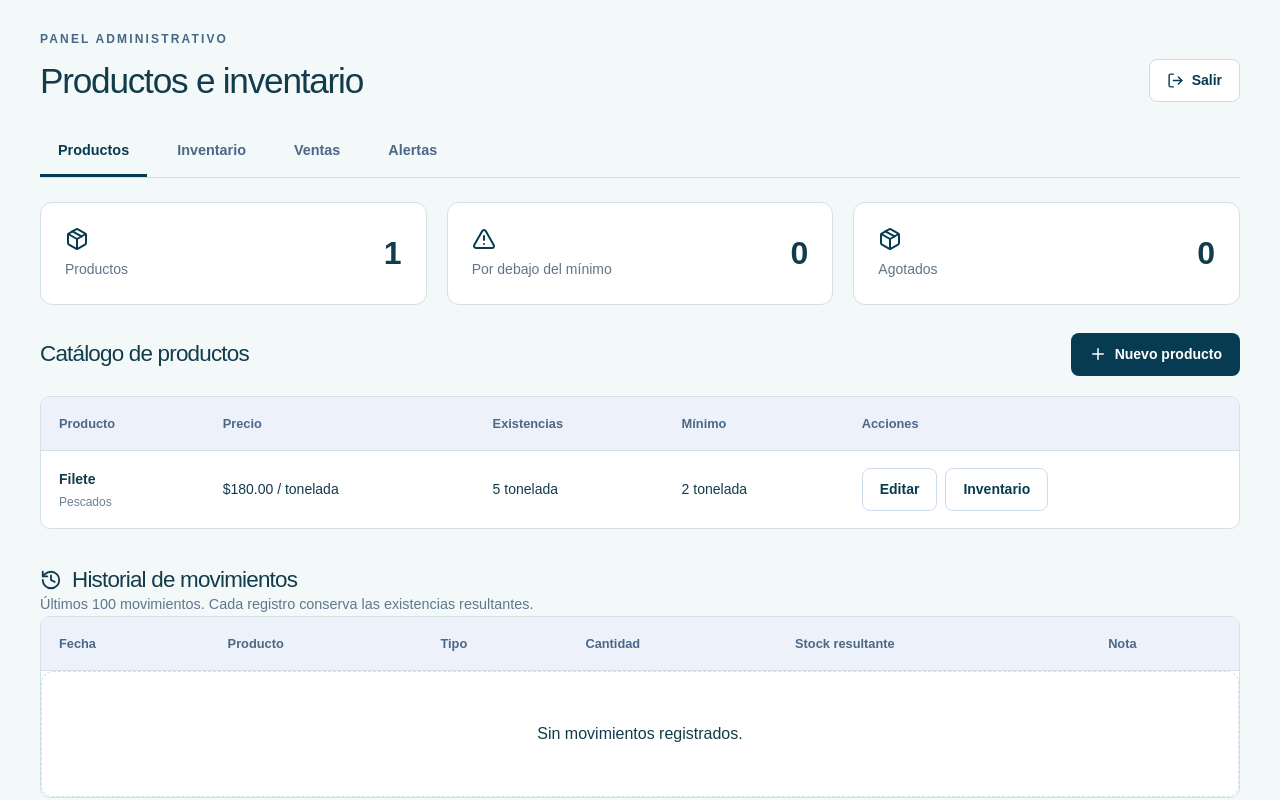
Scenario: Acceso e interacción del inventario › muestra errores dentro del diálogo y permite cancelar sin guardar
The image size is (1280, 800).
Click the button "Inventario" at (997, 490), box x1=945 y1=468 x2=1048 y2=511
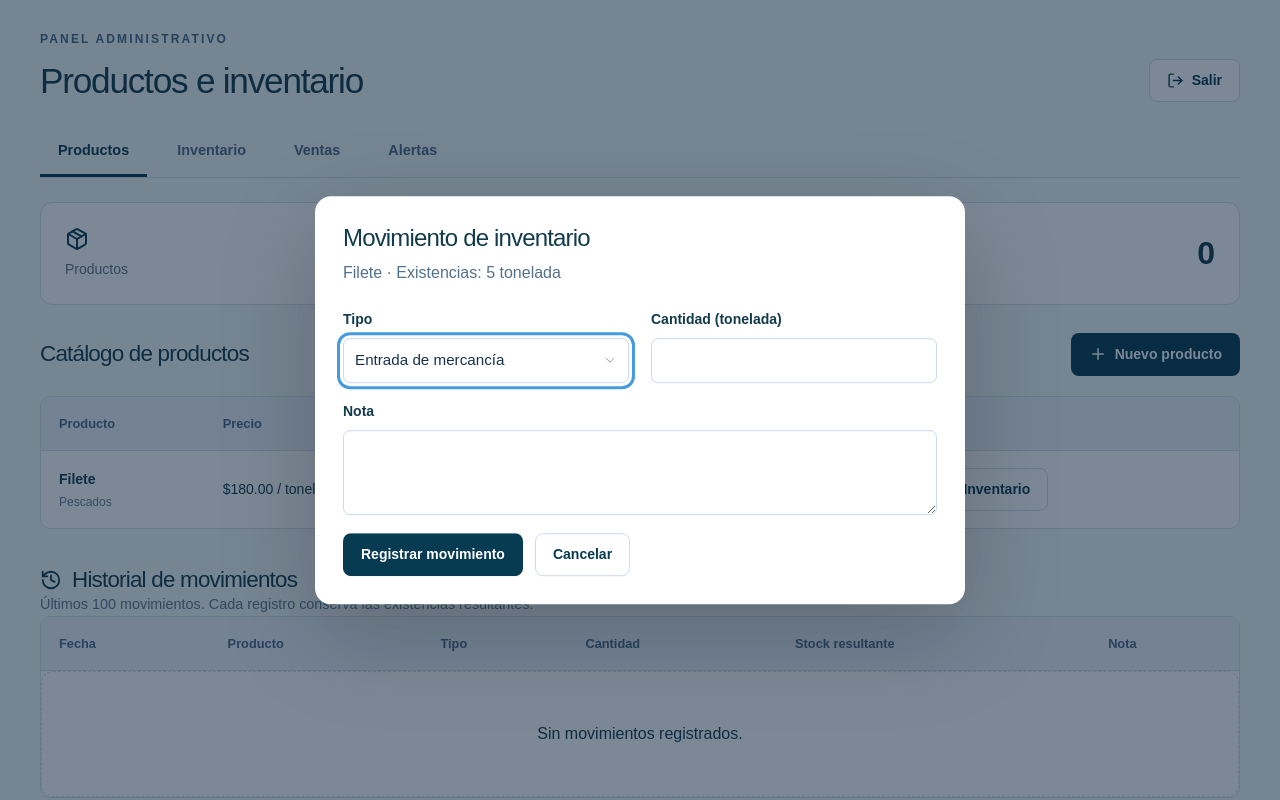
Type "1" into the number field labelled "Cantidad (tonelada)" at (794, 360), box x1=651 y1=338 x2=937 y2=383
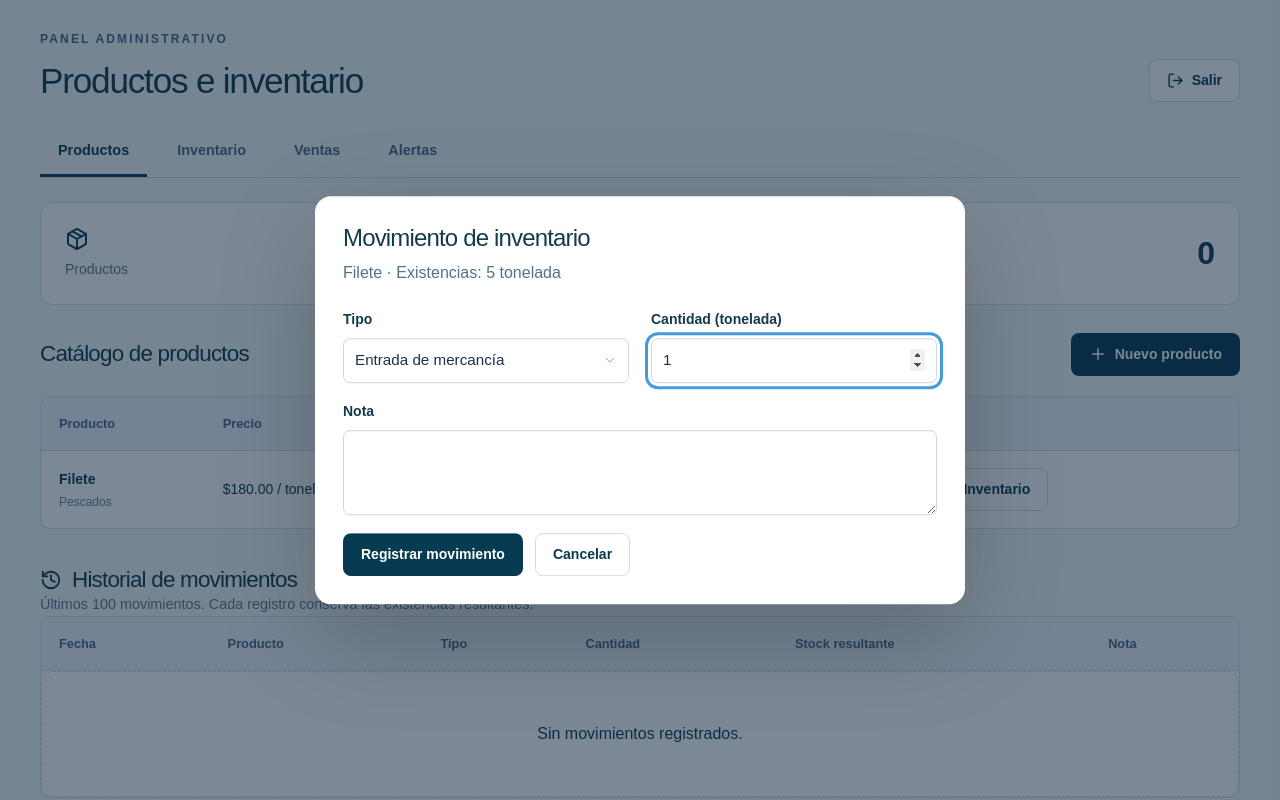
Click the button "Registrar movimiento" at (433, 554), box x1=343 y1=533 x2=523 y2=576
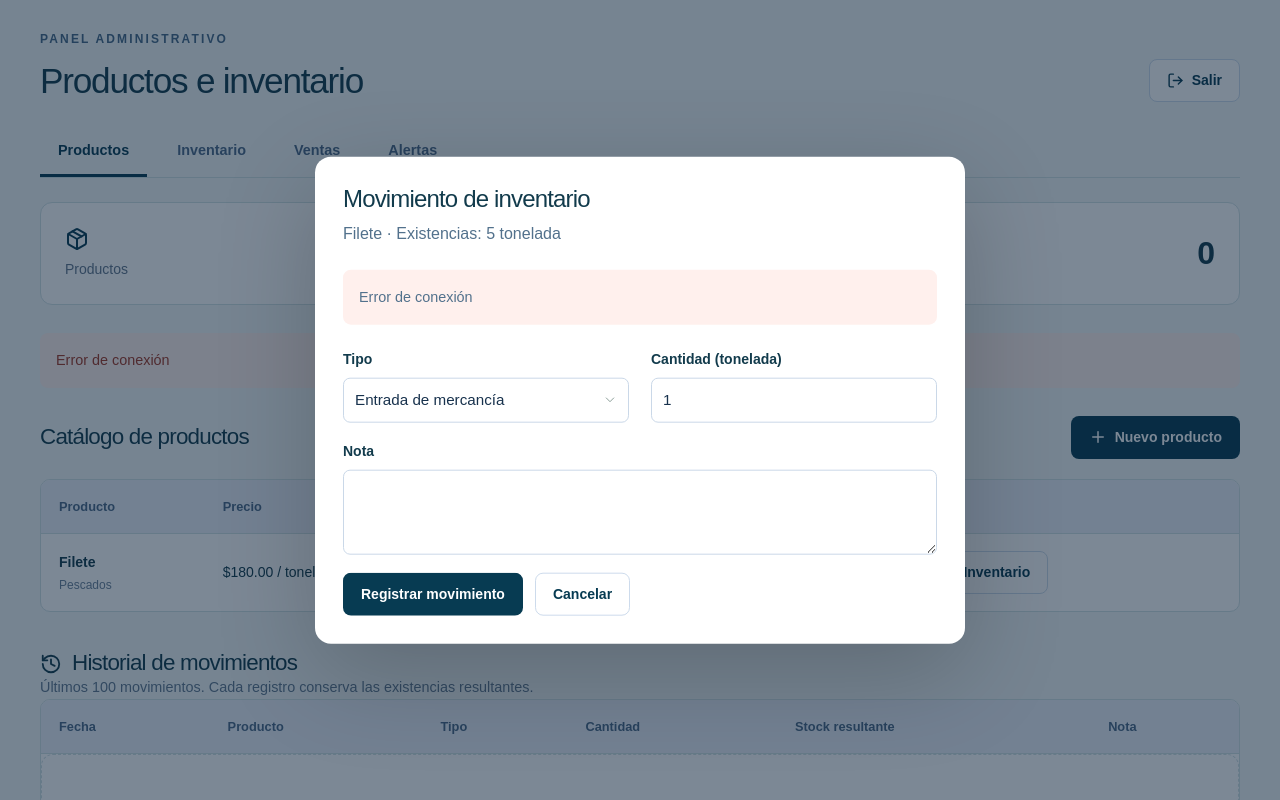
expect the message reads "Error de conexión": met, box x1=359 y1=288 x2=473 y2=304
Click the button "Cancelar" at (582, 594), box x1=535 y1=572 x2=630 y2=615
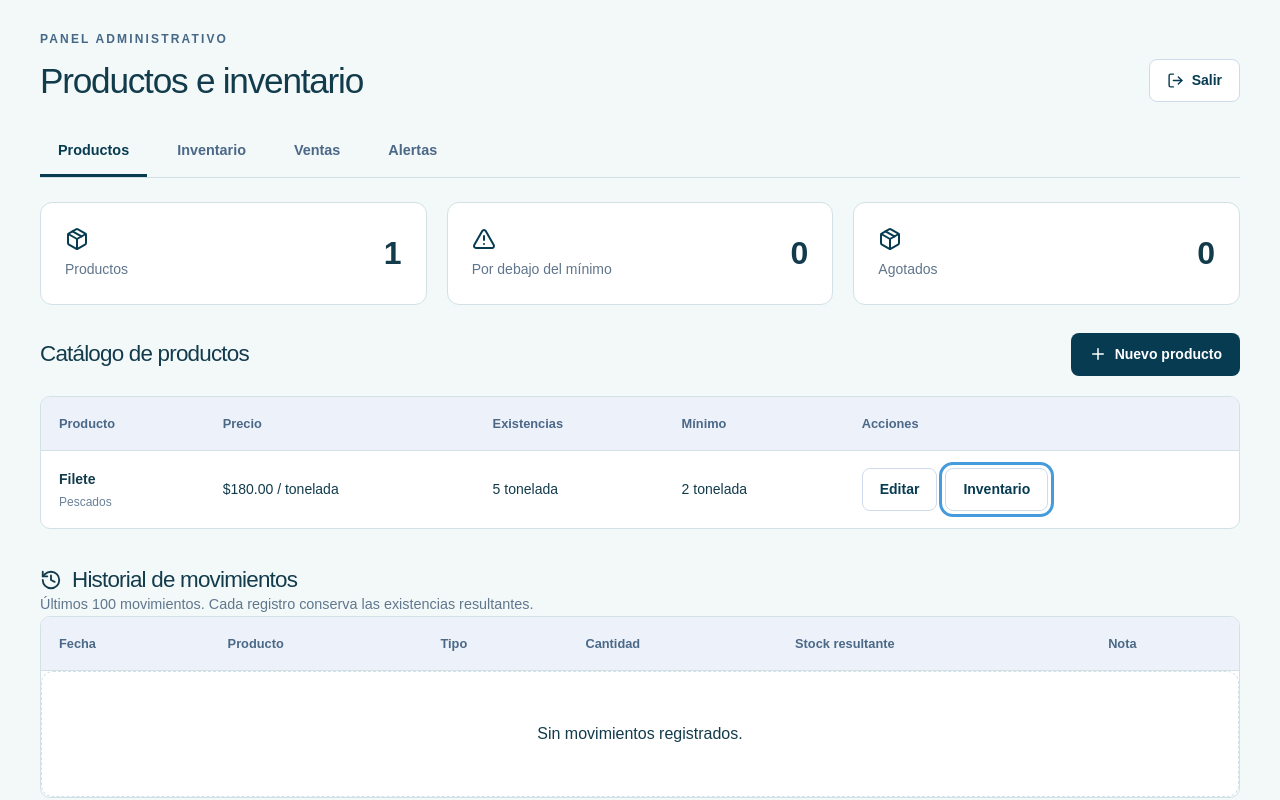
expect the dialog is gone: met
